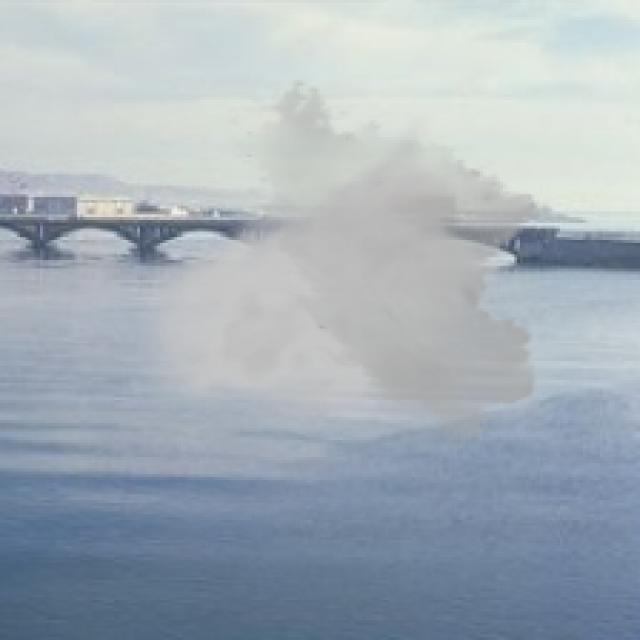smoke: (123, 77, 548, 452)
